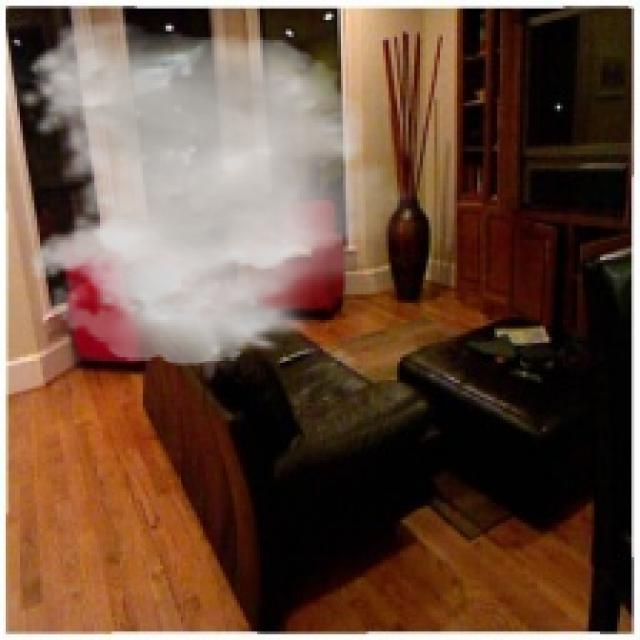smoke: (17, 20, 420, 366)
